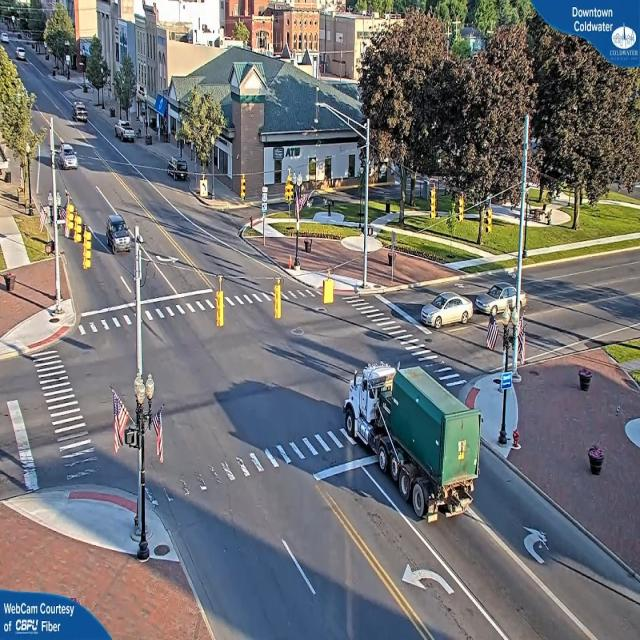car: (416, 290, 474, 331), (476, 280, 529, 318), (107, 217, 133, 254), (164, 158, 189, 180), (56, 146, 78, 169), (116, 123, 135, 143), (16, 47, 27, 62)
truck: (346, 343, 402, 477)
